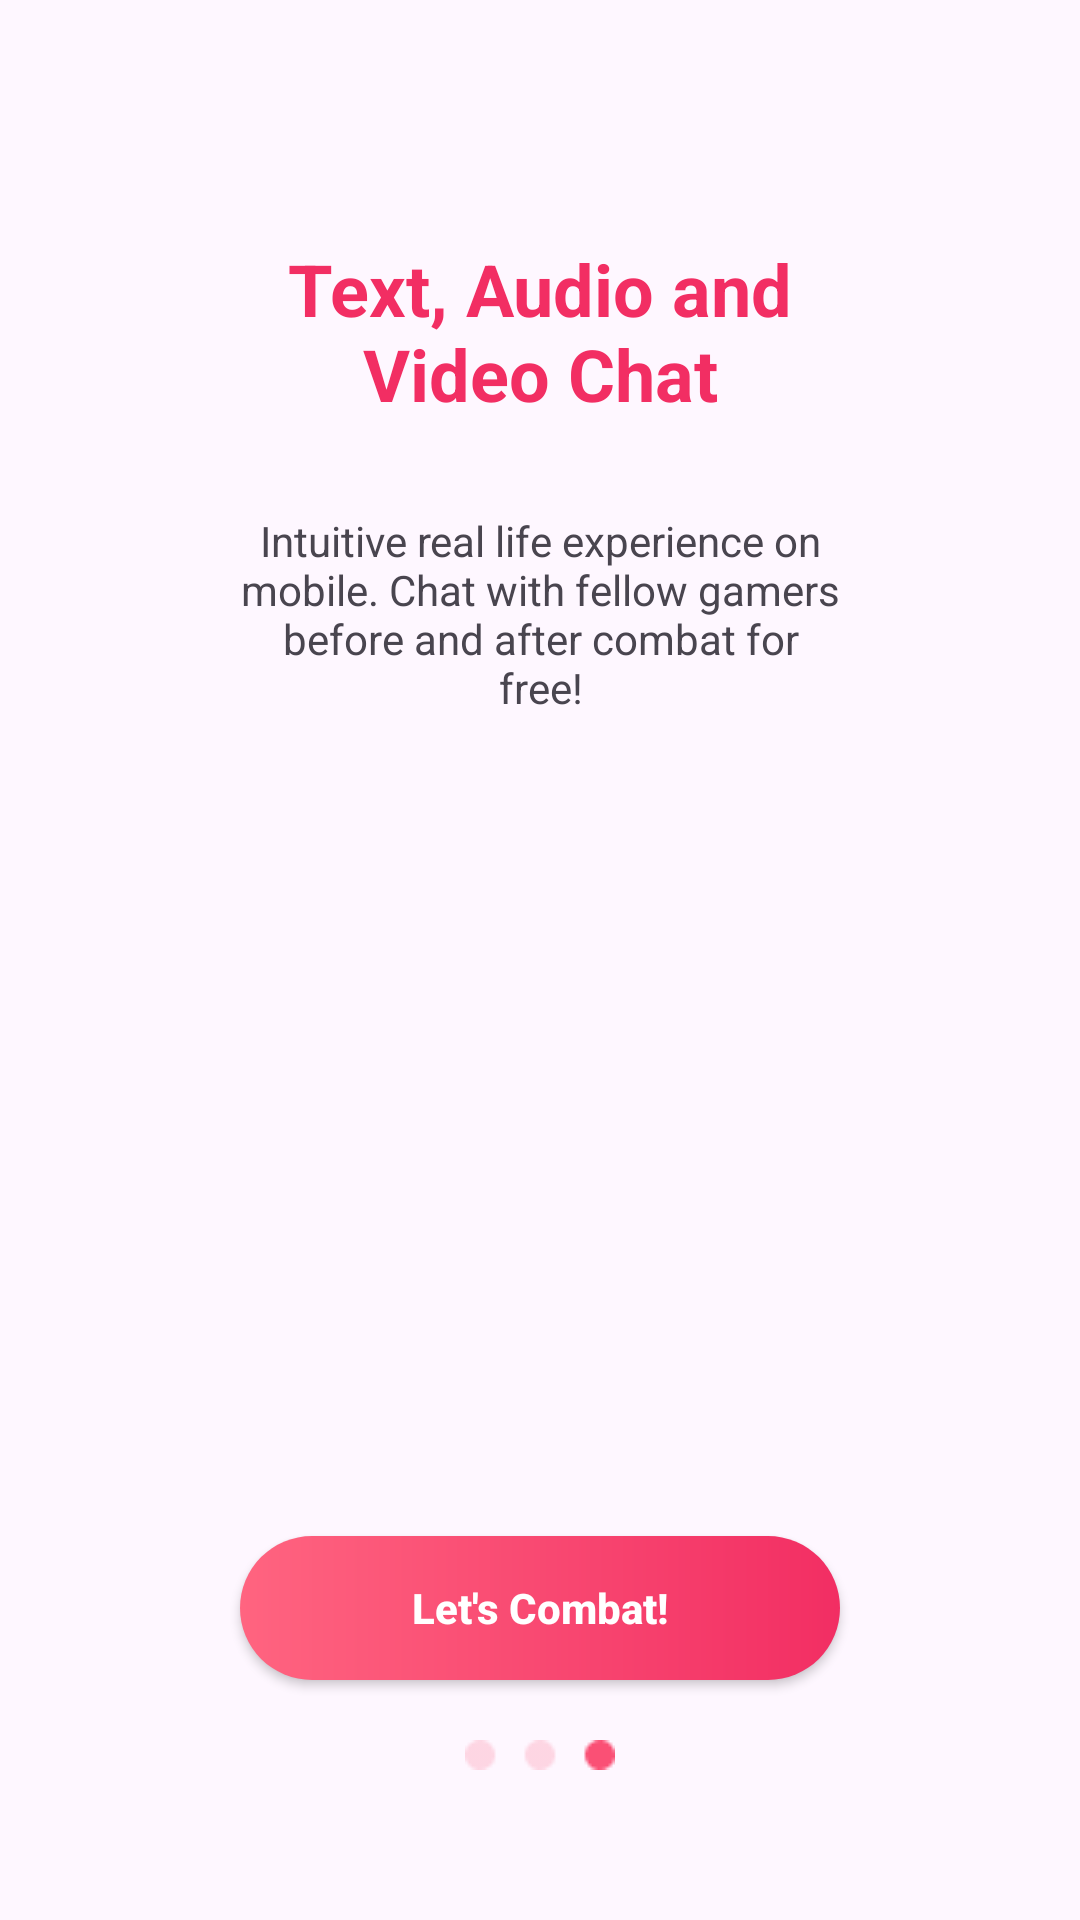

Locate icon controls on the screen. Image size 1080 x 1920, boxes as (x1, y1, x2, y2).
slider dots: (465, 1740, 615, 1770)
